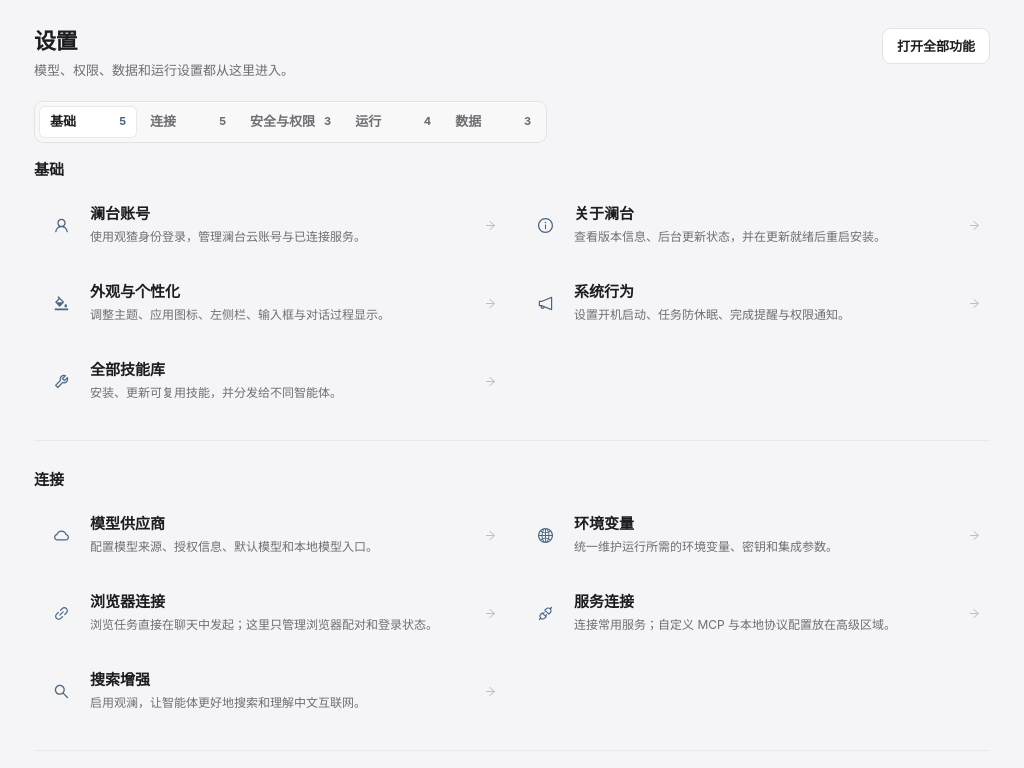
Test: SettingsHomePage › keeps hidden product areas discoverable from the all-functions index
The width and height of the screenshot is (1024, 768).
Click the button "打开全部功能" at (936, 46), box [882,28,990,64]
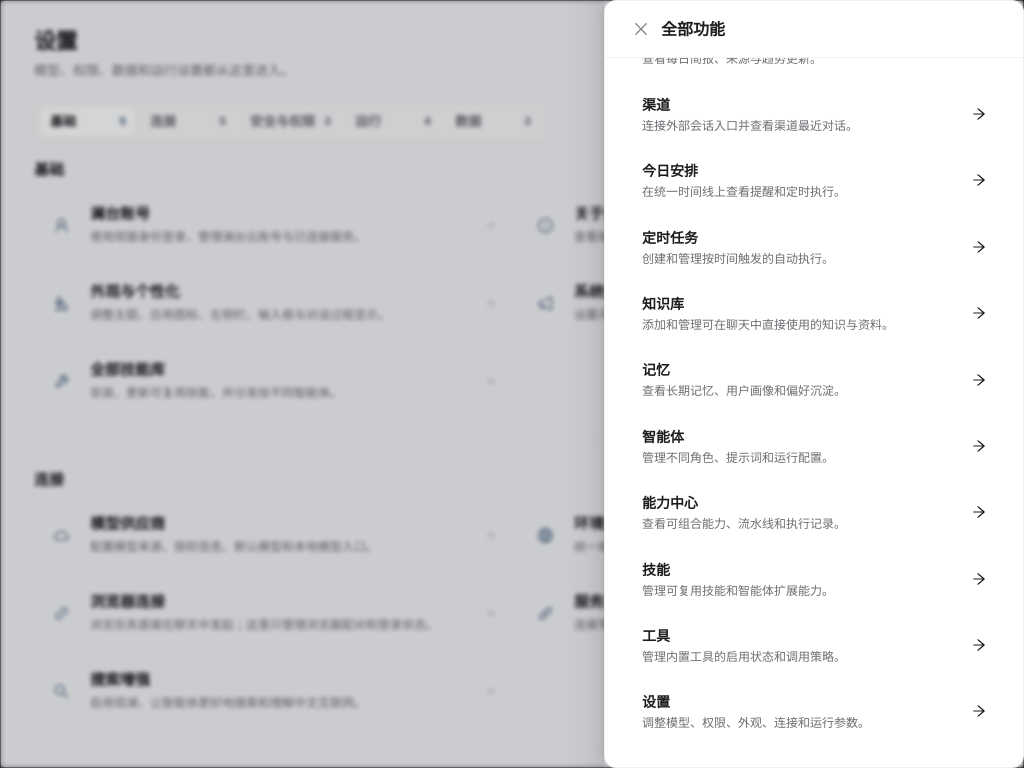
Expected: the button "能力中心 查看可组合能力、流水线和执行记录。" is shown, [629,481,999,544]
